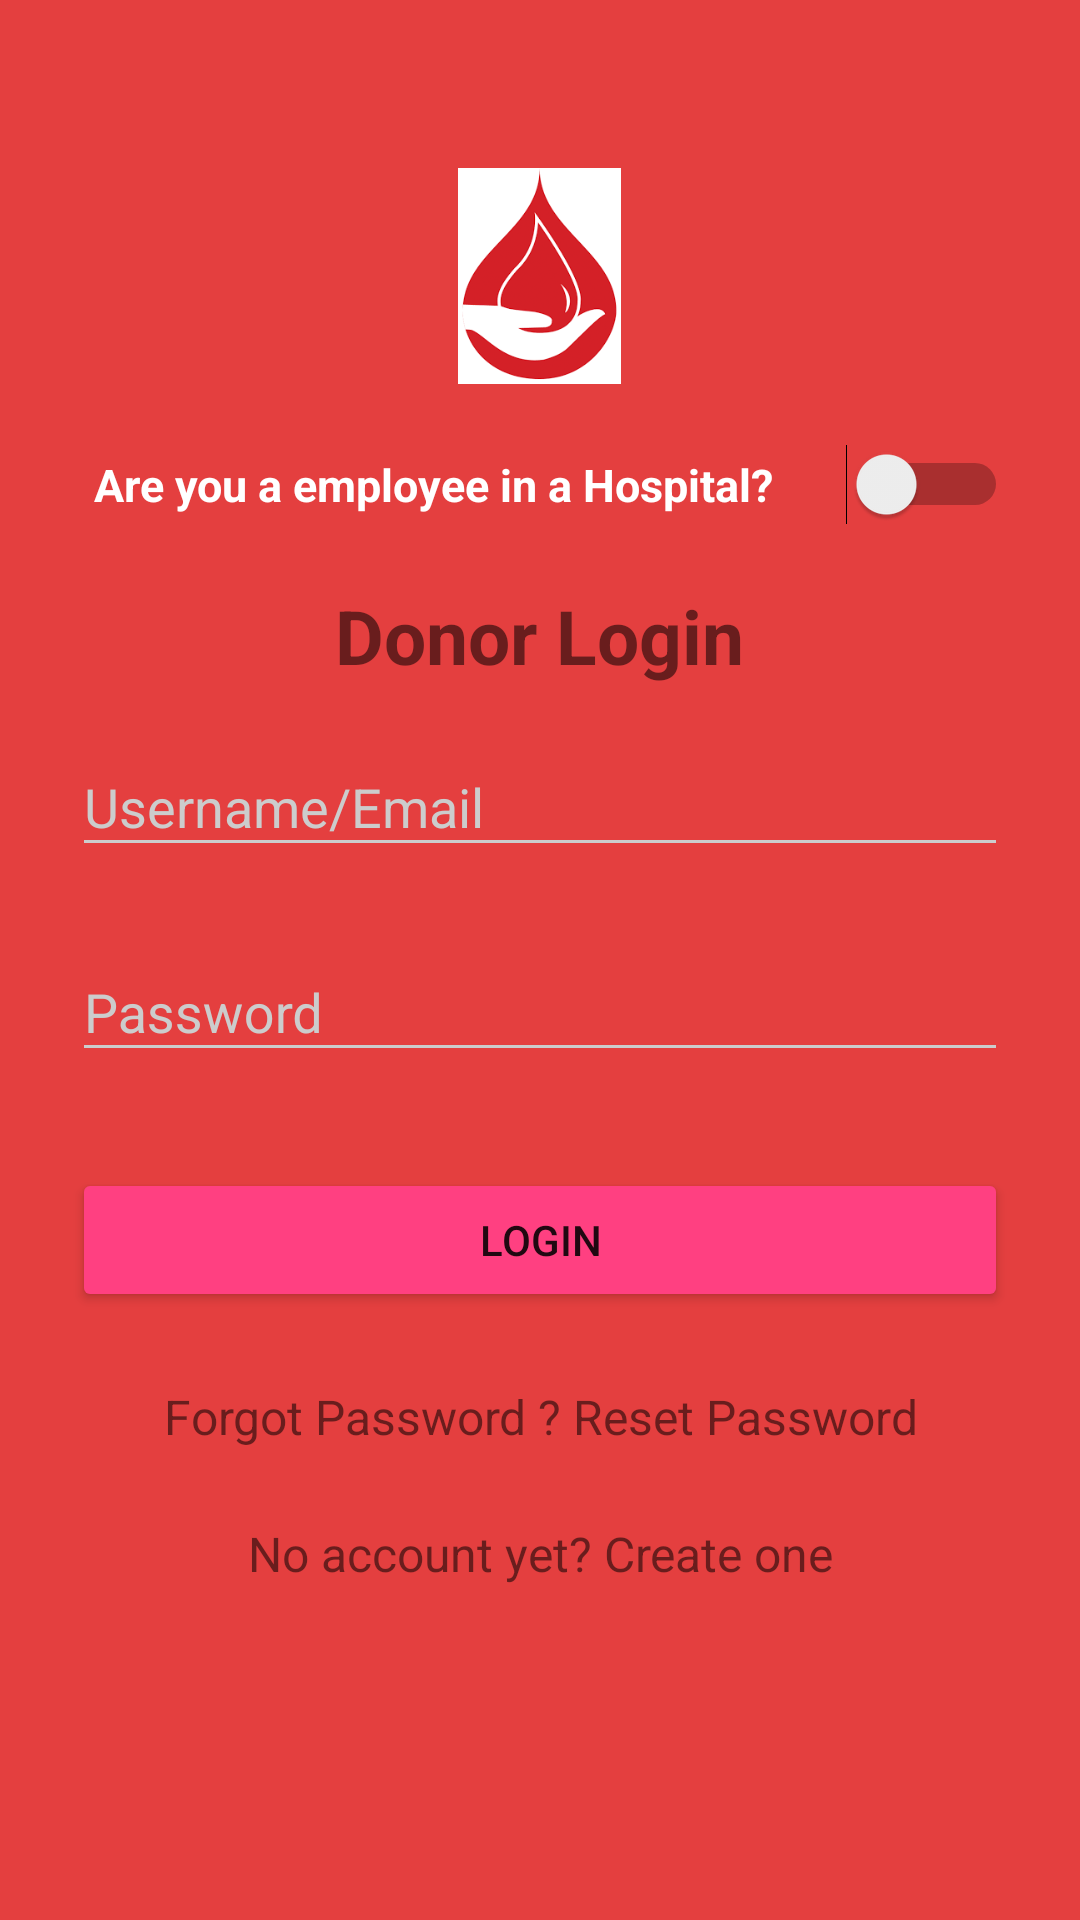

Named icons in this screenshot (1080×1920) and their bounding boxes, (x1, y1, x2, y2):
blooddrop: (458, 168, 621, 384)
